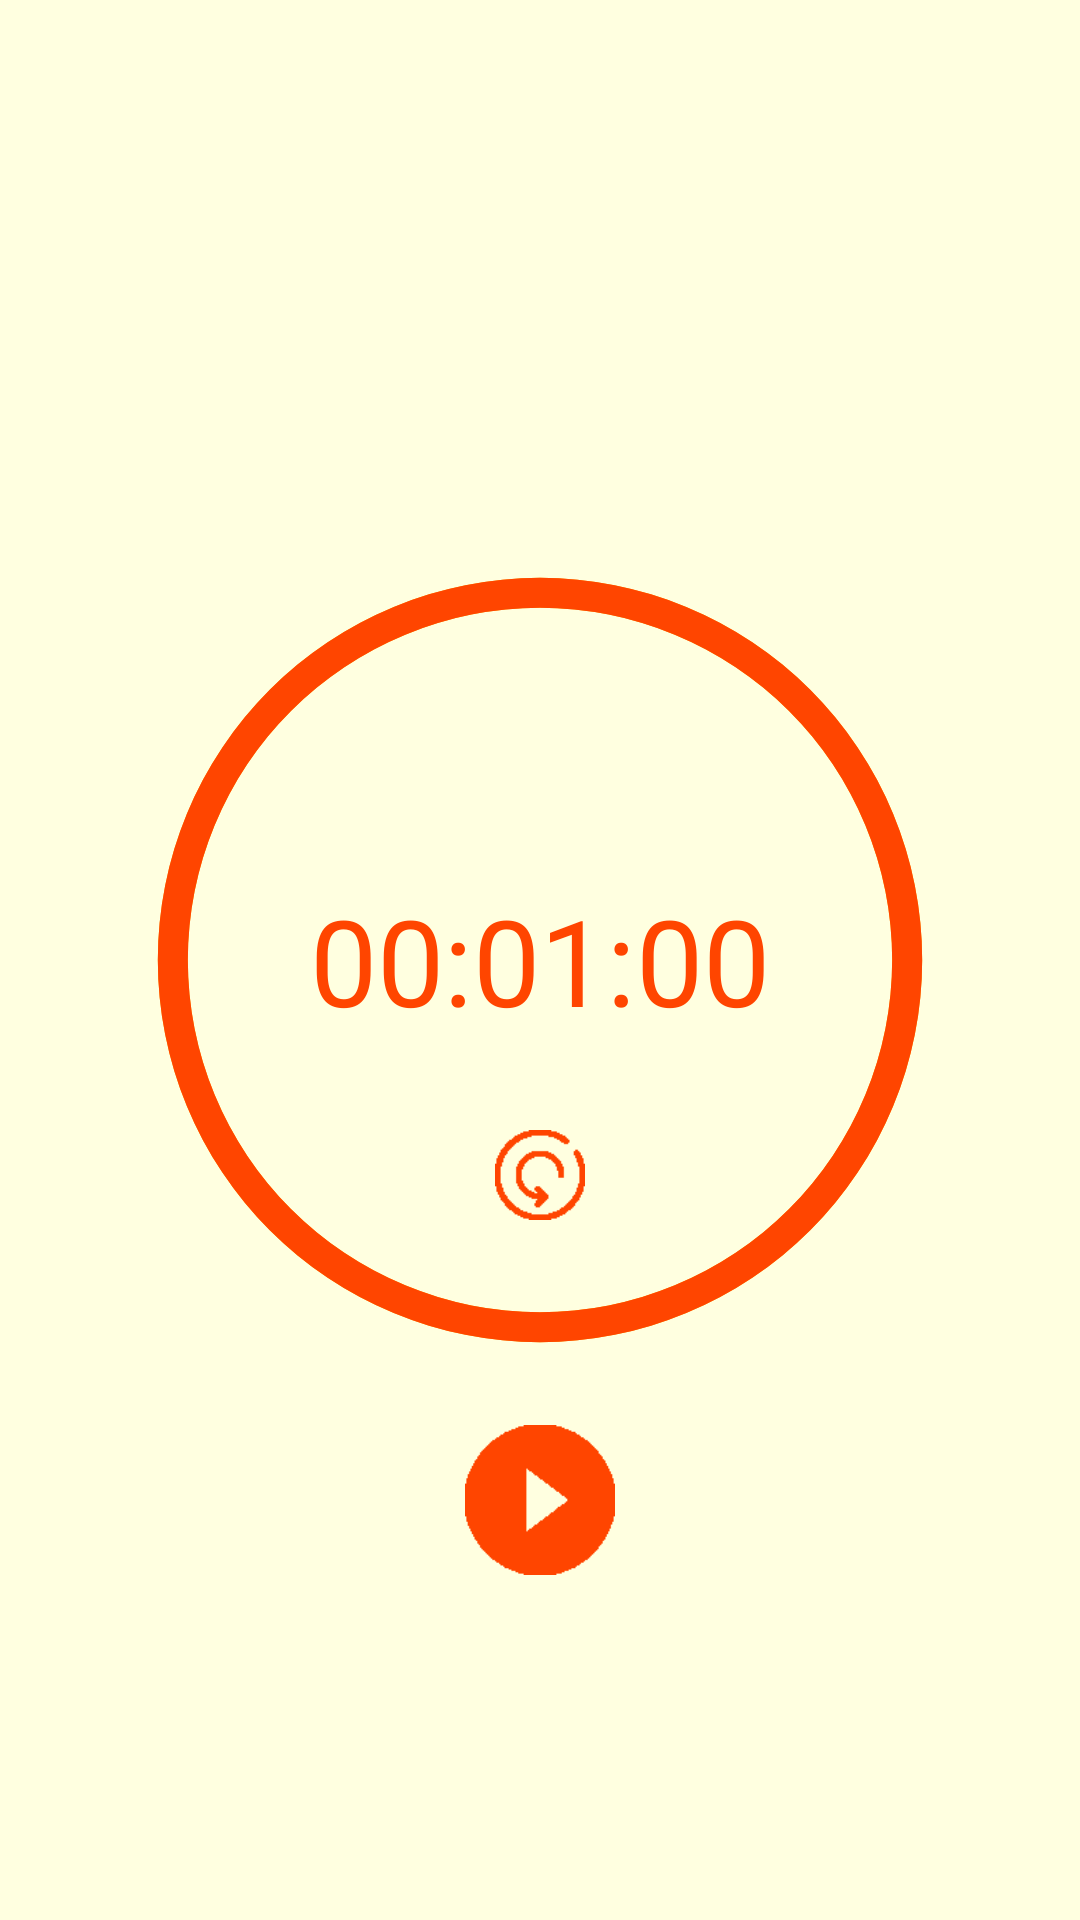

Icons on this 1080w x 1920h Android screen, each with its box as bbox=[x1, y1, x2, y2]:
reset: bbox=[495, 1130, 585, 1220]
start: bbox=[465, 1425, 615, 1575]
